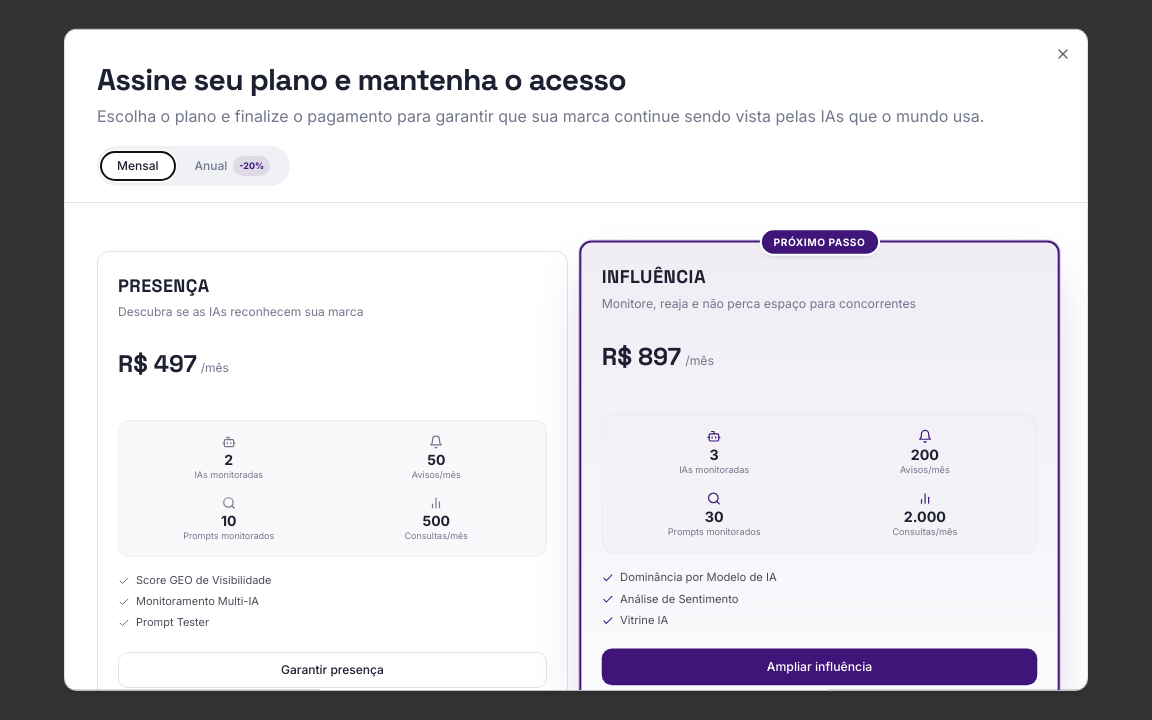
Test: CpfCnpjDialog no UpgradeModal › documento inválido mostra o erro e não chama o servidor
Click the button "Ampliar influência".
click(819, 666)  # box [602,648,1037,685]
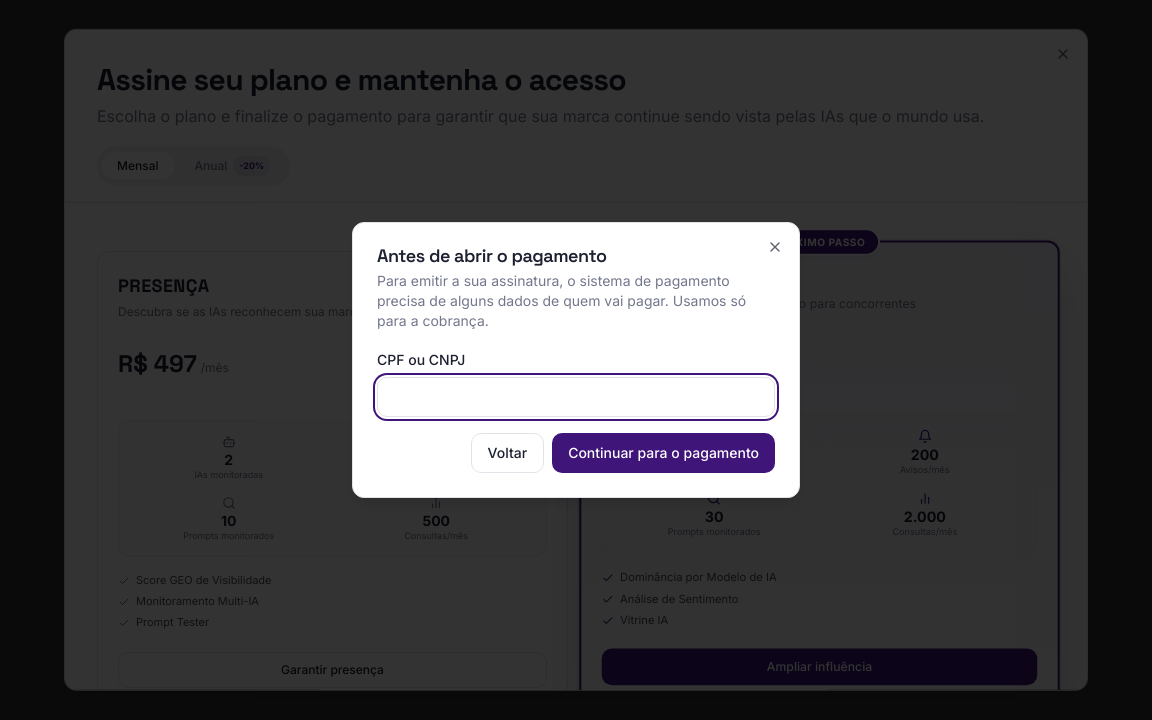
Type "11111111111" into the field labelled "CPF ou CNPJ".
click(576, 397); type("11111111111")  # box [377,377,775,417]
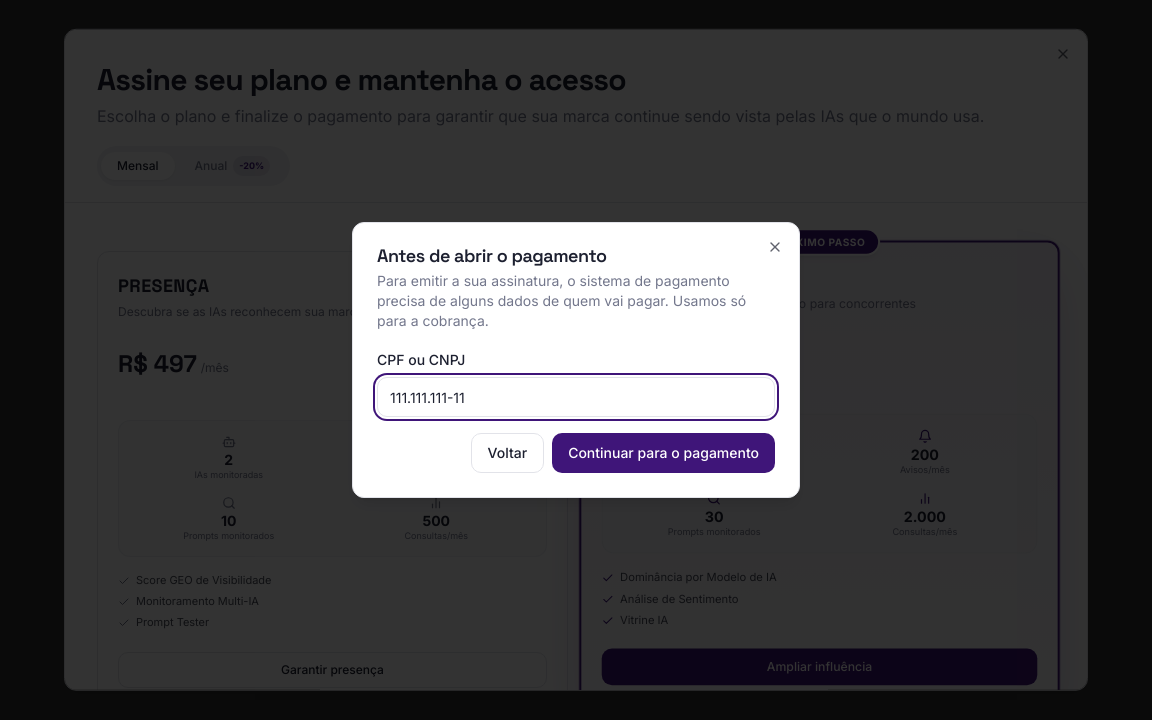
Click the button "Continuar para o pagamento".
click(664, 453)  # box [552,433,775,473]
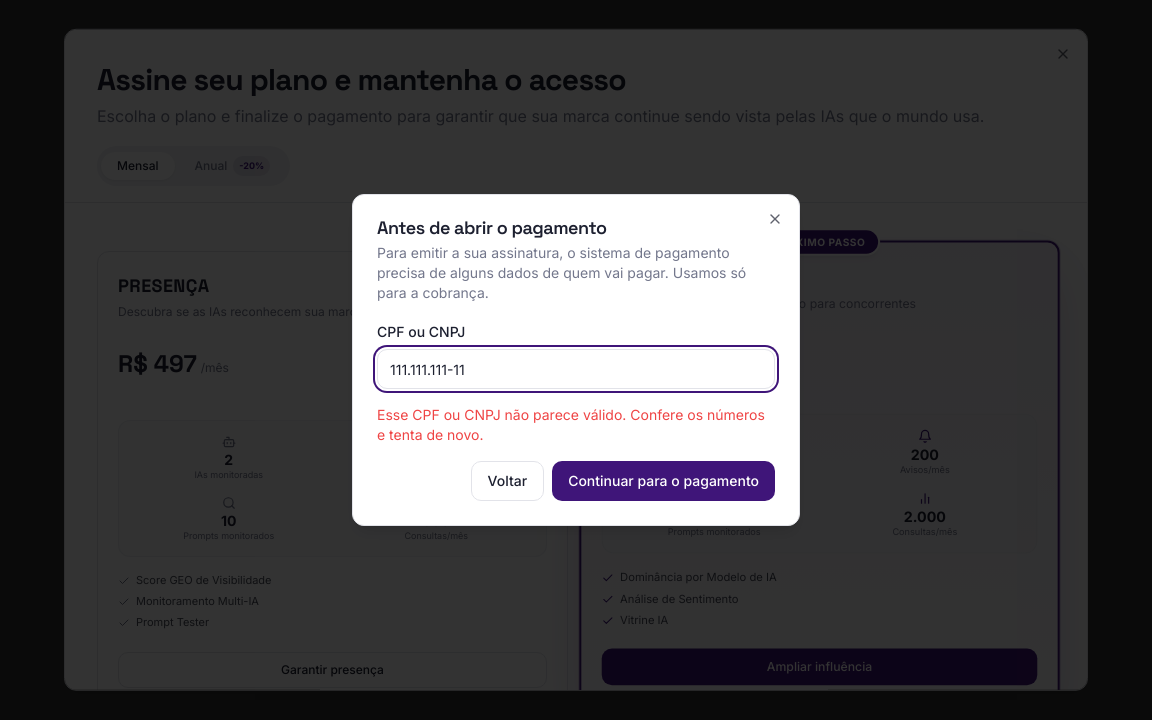
Expected: the text "Esse CPF ou CNPJ não parece válido. Confere os números e tenta de novo." is shown, [377,405,775,445]
